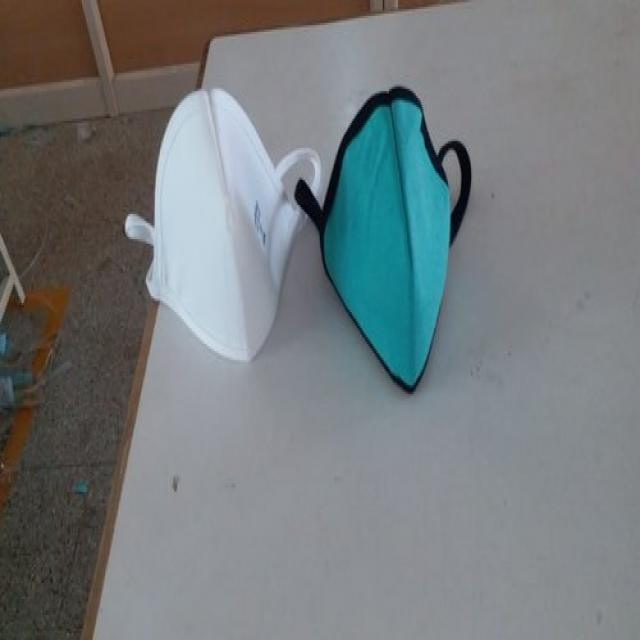non-organic waste: (299, 82, 475, 392), (136, 80, 312, 364)
